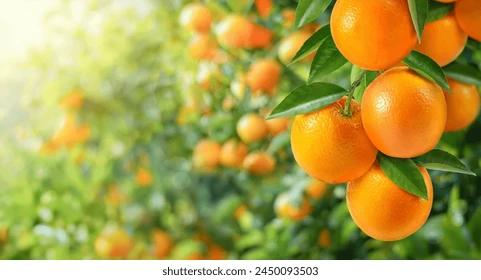orange: (359, 65, 452, 159), (341, 157, 438, 247), (286, 91, 374, 187), (326, 0, 428, 69)
